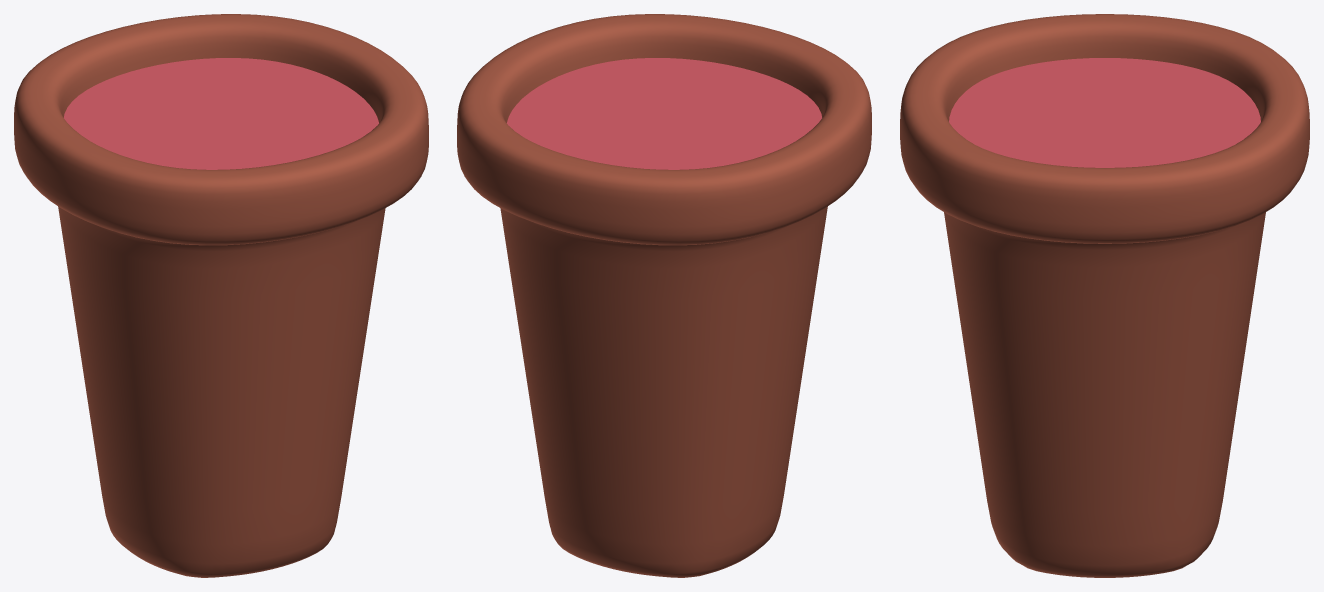
File: PorttedPlant.fbx
3 renders of one model, left to right at view 1: azimuth 30°, elevation 25°; view 2: azimuth 150°, elevation 25°; view 3: azimuth 270°, elevation 25°, orthographic.
Visible parts, largest first — view 1: Cube.001; view 2: Cube.001; view 3: Cube.001.
Part boxes in pixels (x1,y1,x2,y2): Cube.001: [14, 14, 428, 577]; Cube.001: [457, 14, 871, 577]; Cube.001: [900, 14, 1309, 577].
Bounding box in the file's own units: 45.22 × 54.02 × 45.22.
